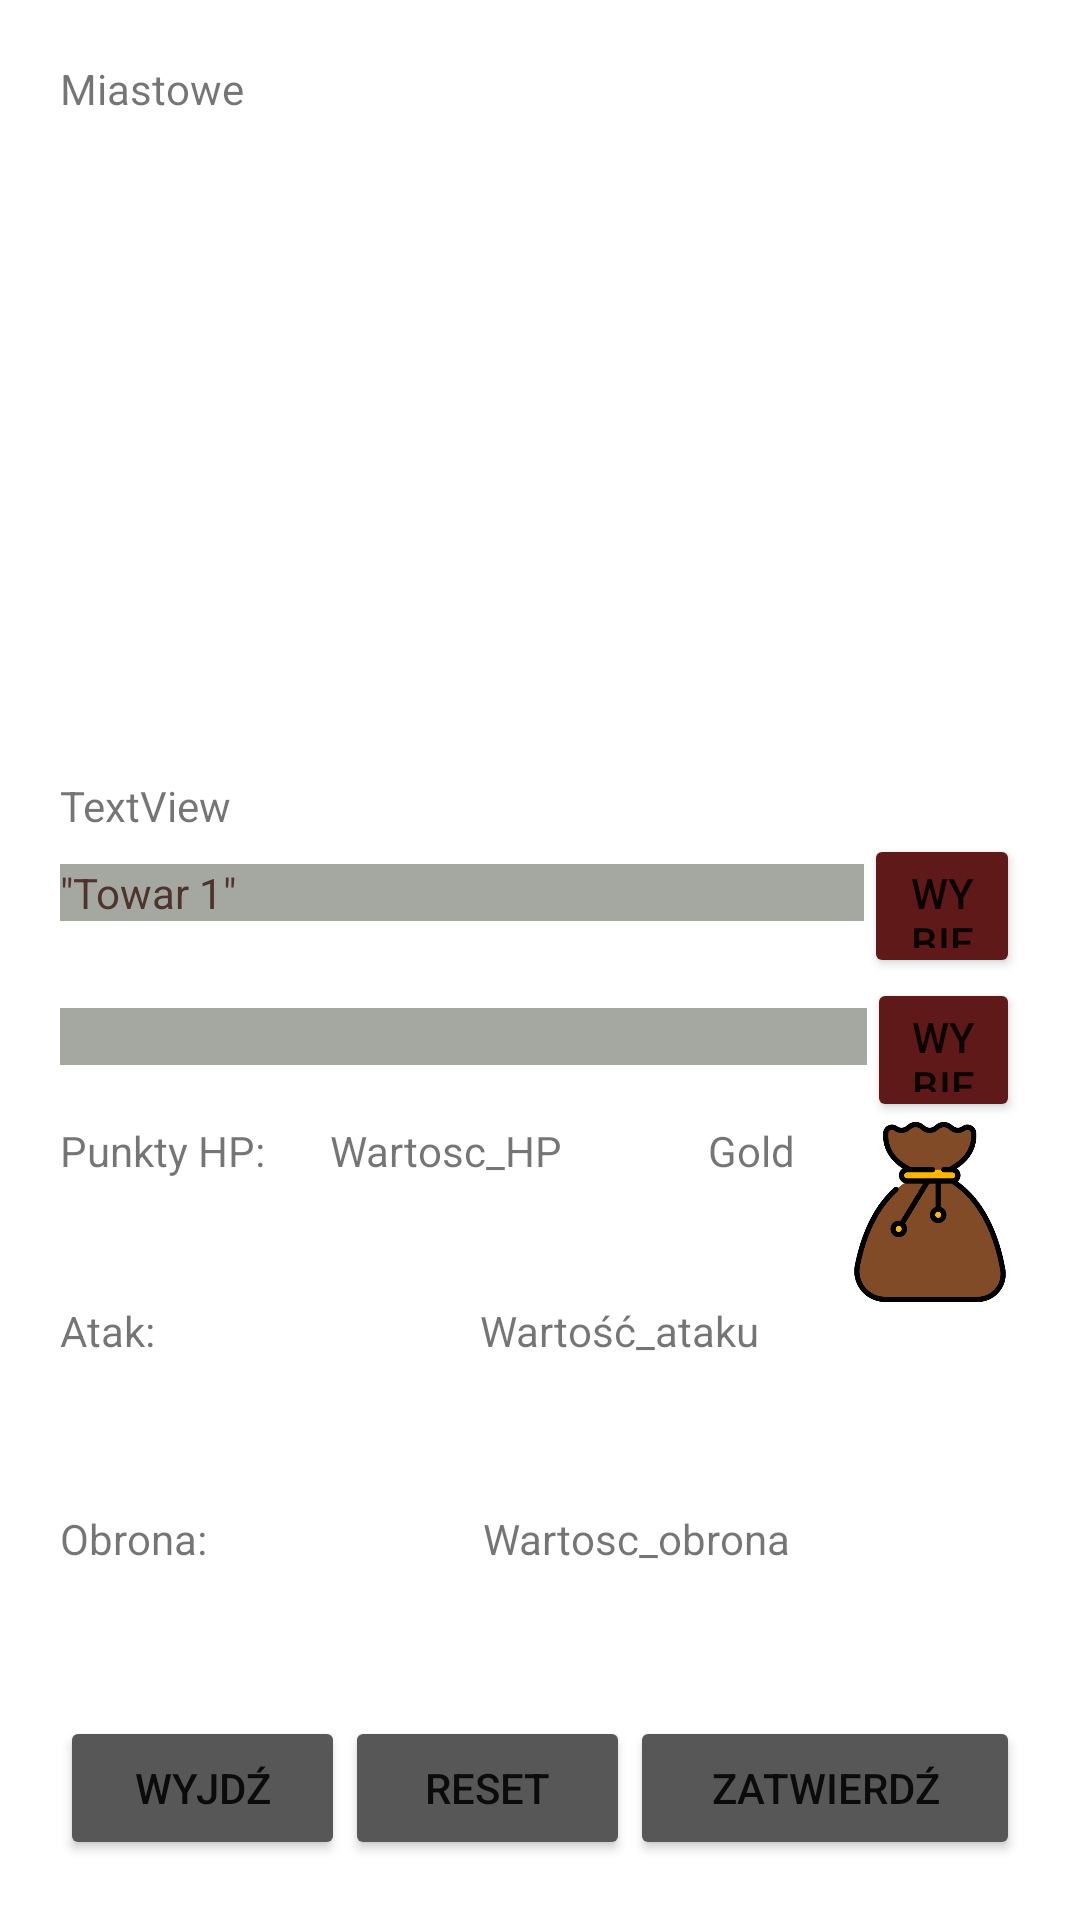

Icon click points for this 1080*1920 phone screenshot, format (x=x, y=y):
staty sakwa: (x=930, y=1212)
